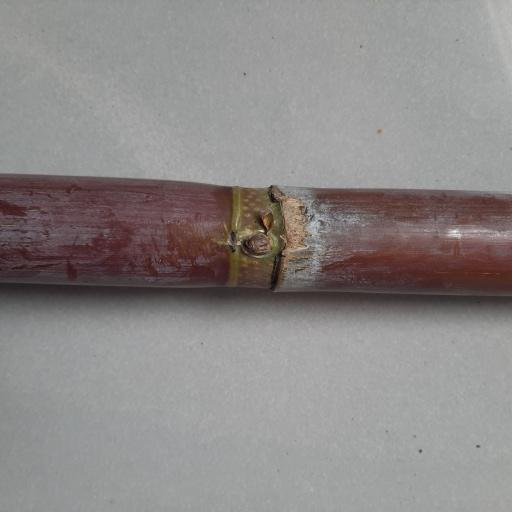Bud: (242, 232, 273, 256)
